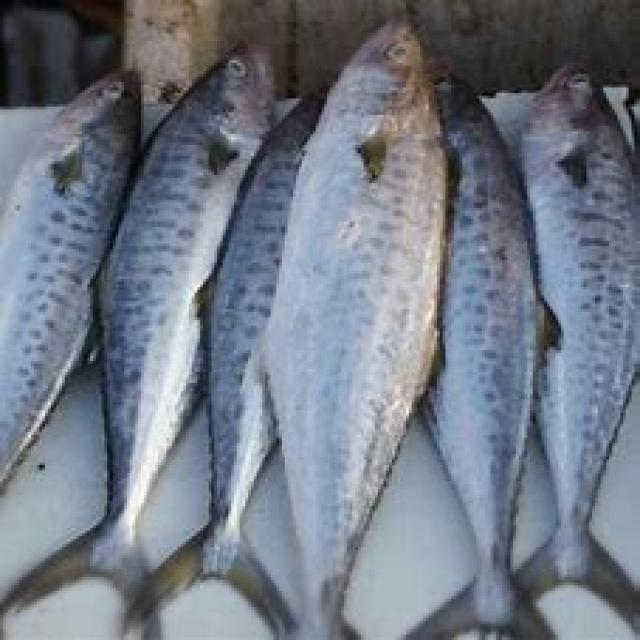seer: (262, 20, 446, 637)
